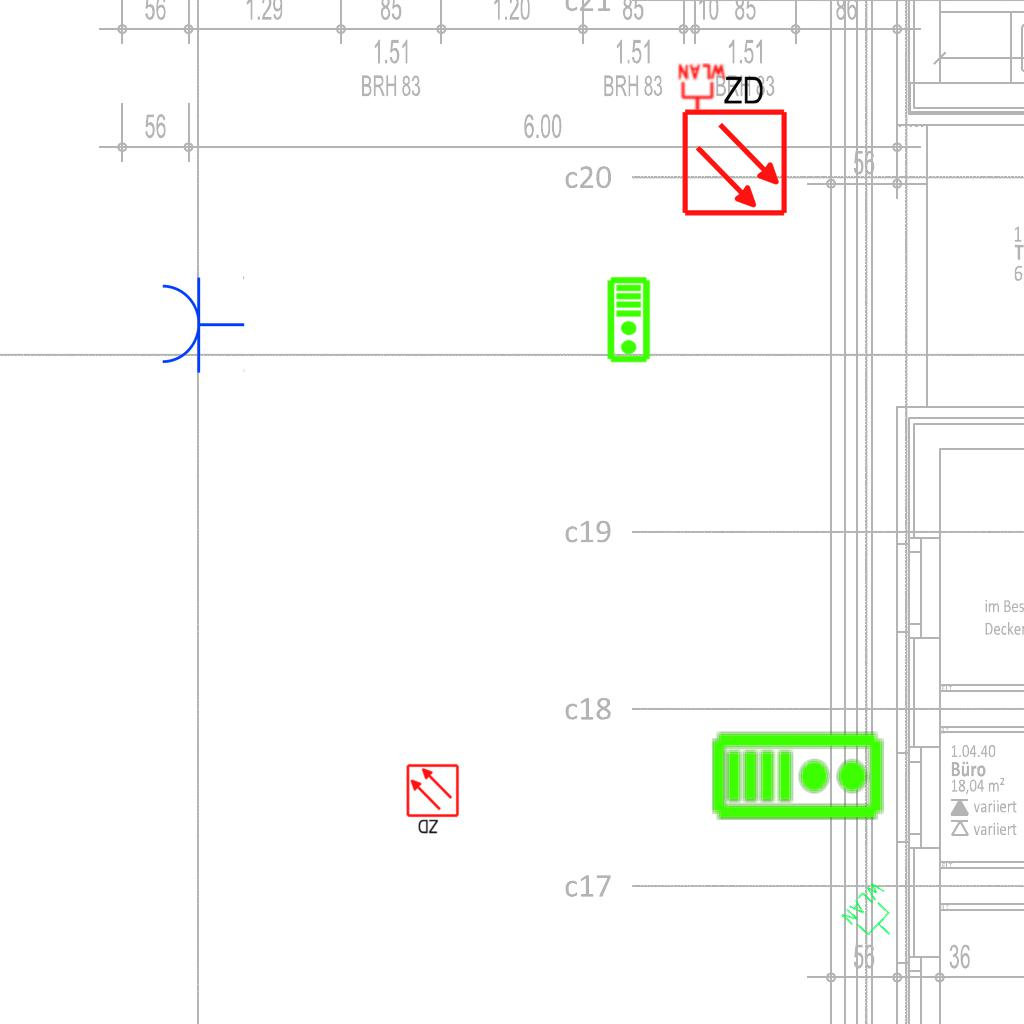Gegensprechanlage_mit_Video: (710, 727, 886, 822), (606, 276, 653, 364)
Schukosteckdose_einfach: (158, 274, 245, 374)
WLAN: (838, 877, 912, 951), (676, 63, 728, 115)
ZD_Melder_in_Zwischendecke_mit_Revisionsoeffnung_mind_40_x_40_cm: (676, 69, 790, 218), (405, 763, 462, 837)
